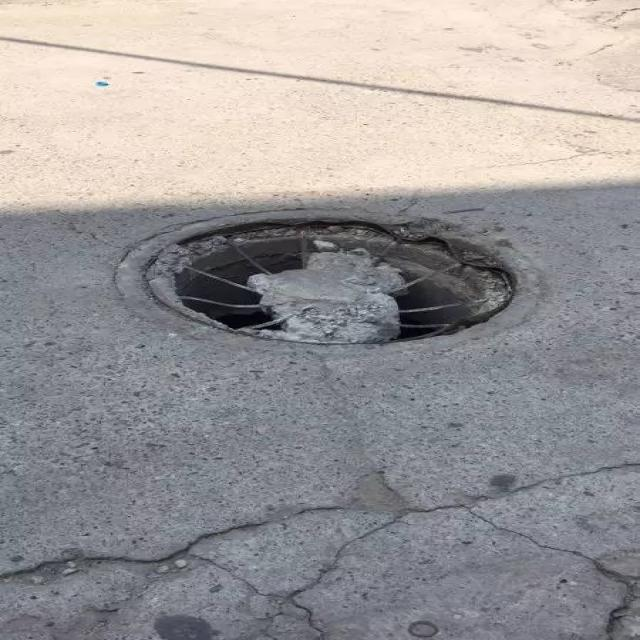manhole: (119, 212, 515, 343)
